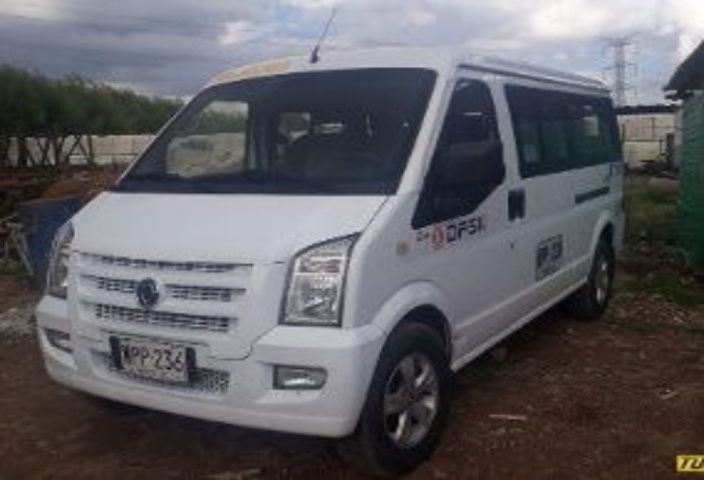van: (21, 36, 647, 420)
